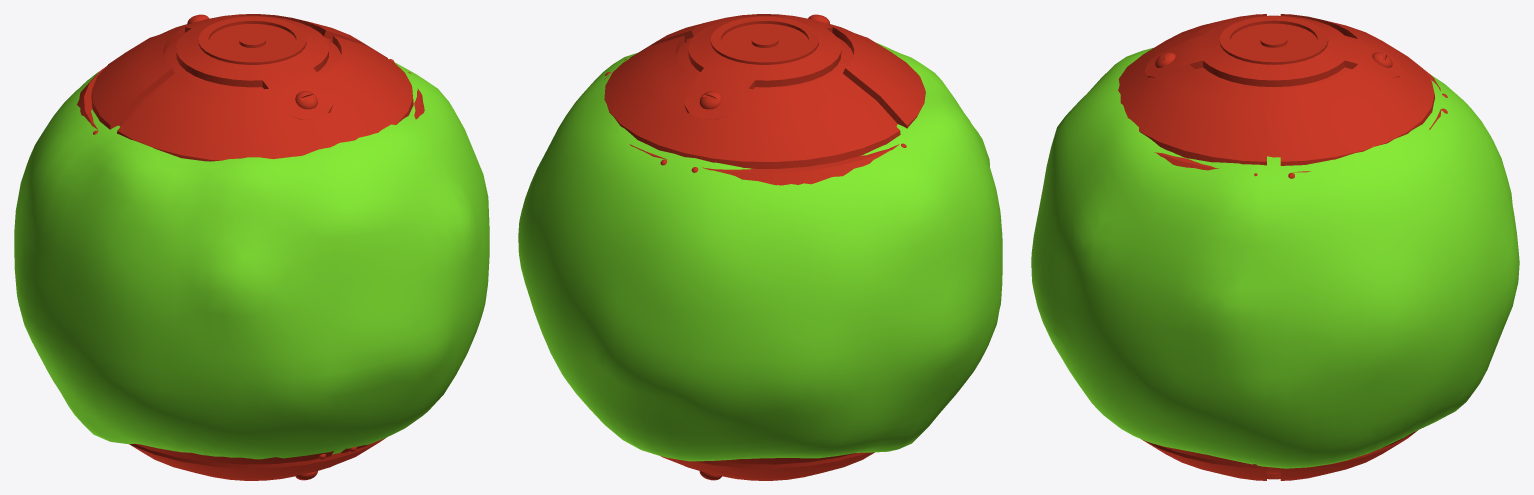
File: obj_survivalobject_triggerball_15x_pose0.fbx
3 views of the same model, side by side, from view 1: azimuth 30°, elevation 25°; view 2: azimuth 150°, elevation 25°; view 3: azimuth 270°, elevation 25° (orthographic).
Visible parts, largest first — view 1: obj_survivalobject_triggerball; view 2: obj_survivalobject_triggerball; view 3: obj_survivalobject_triggerball.
Boxes of the visible parts, x1,y1,x2,y2 form: obj_survivalobject_triggerball: [14, 14, 489, 480]; obj_survivalobject_triggerball: [518, 14, 1002, 480]; obj_survivalobject_triggerball: [1031, 14, 1519, 480].
Size of the model in its own units: 15.59 by 14.92 by 15.77.
